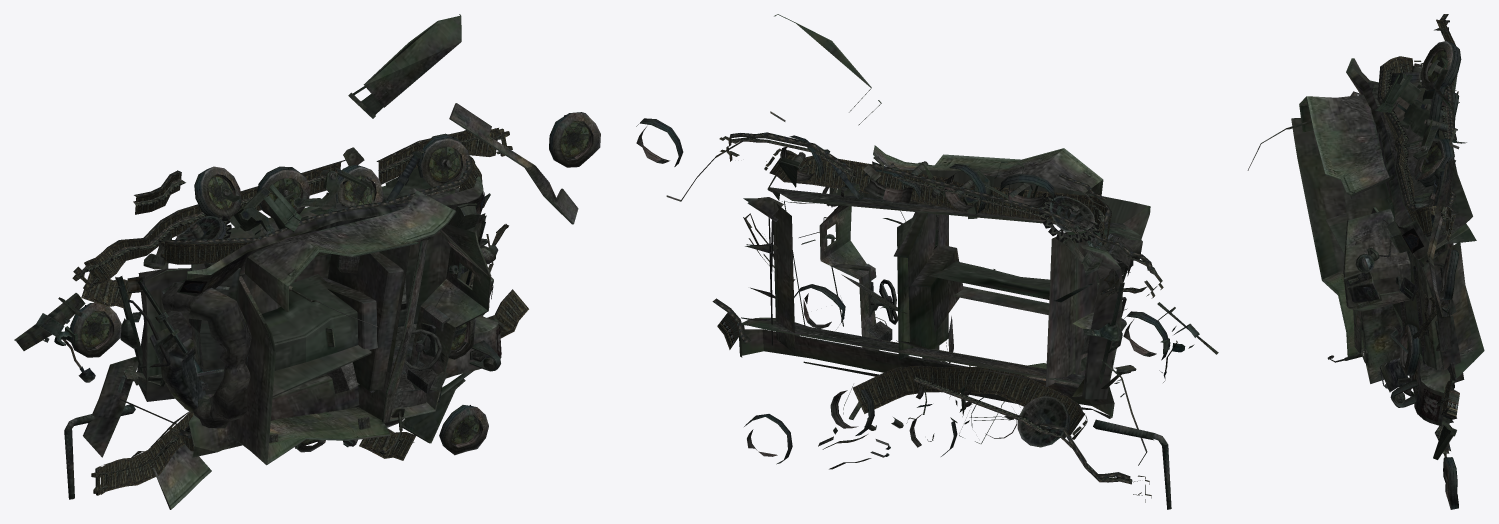
The model's file is vehicle_uni_carrier_gr_destroyed.glb.
The picture shows the model from 3 angles, left to right: view 1: azimuth 30°, elevation 25°; view 2: azimuth 150°, elevation 25°; view 3: azimuth 270°, elevation 25°; orthographic projection. The views are drawn at different scales.
Size of the model in its own units: 260 by 188 by 93.84.
Materials: 6 (6 with a texture image).
